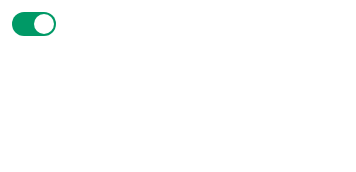
Test: EditionFlagSwitch(reader_full_text) › a confirmed rejection is rolled back without a refresh
Step 1. Click the switch named "Full text for NABRE" → (34, 24), box [12,12,56,36]
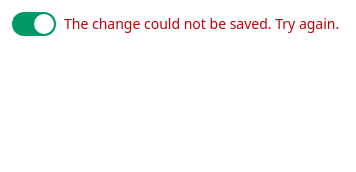
Result: the message reads "The change could not be saved. Try again." at [64,14,339,33]
